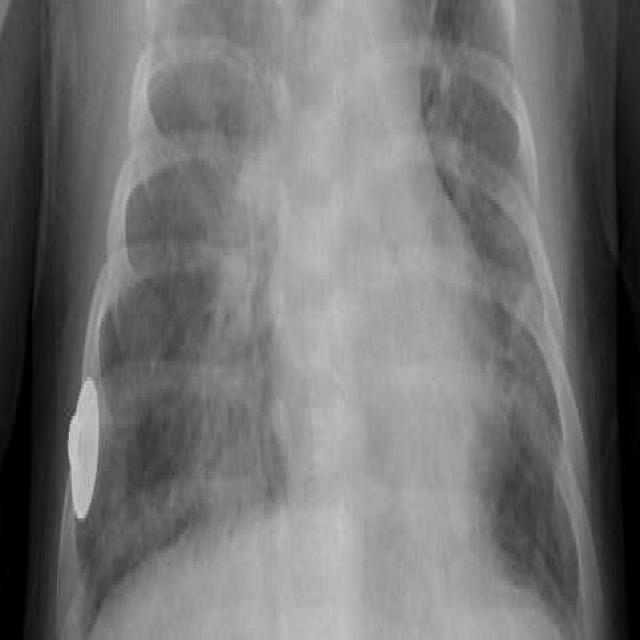low-pneumonia: (213, 49, 278, 441), (505, 192, 567, 503), (416, 11, 475, 196)
